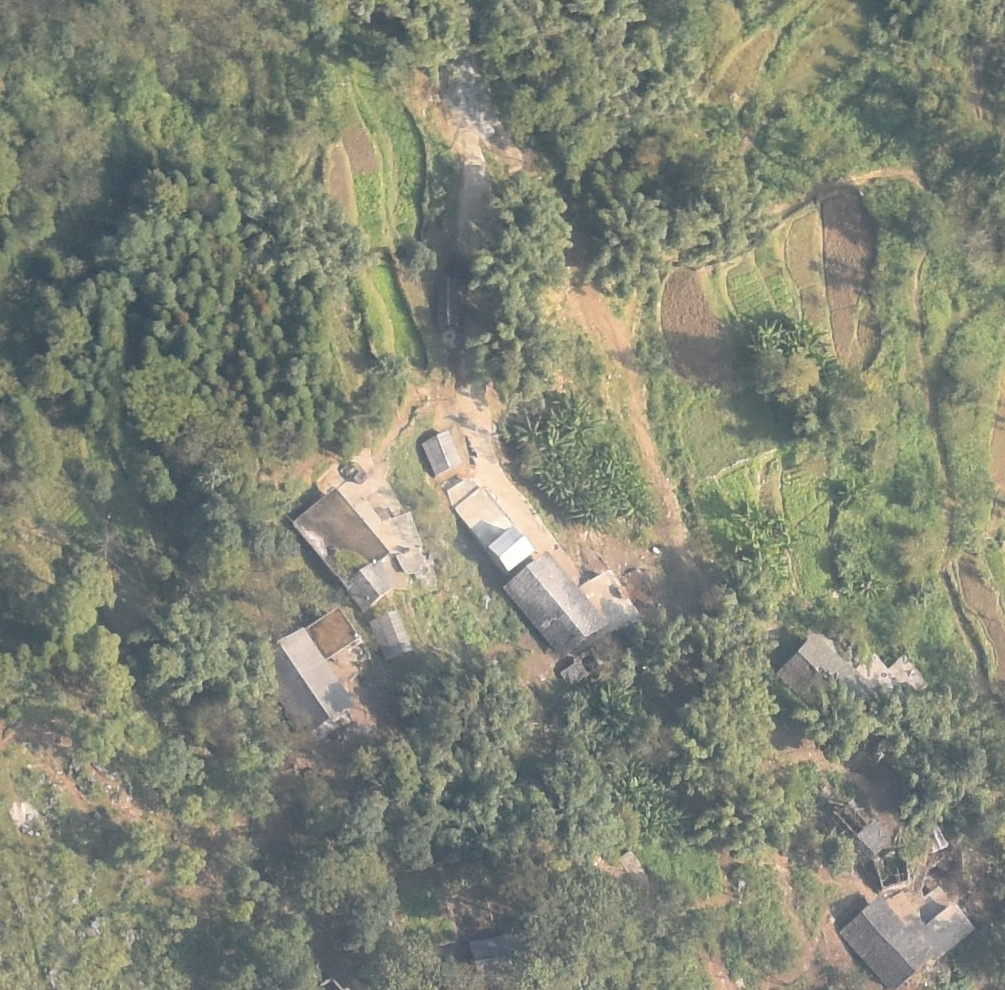building: (502, 549, 608, 658), (260, 627, 353, 735), (291, 488, 391, 588), (776, 631, 881, 719), (839, 892, 936, 987), (886, 891, 977, 967), (576, 568, 638, 635), (452, 487, 515, 550), (305, 608, 360, 661), (345, 560, 402, 610), (368, 611, 415, 657), (487, 526, 536, 570), (419, 430, 463, 477)
